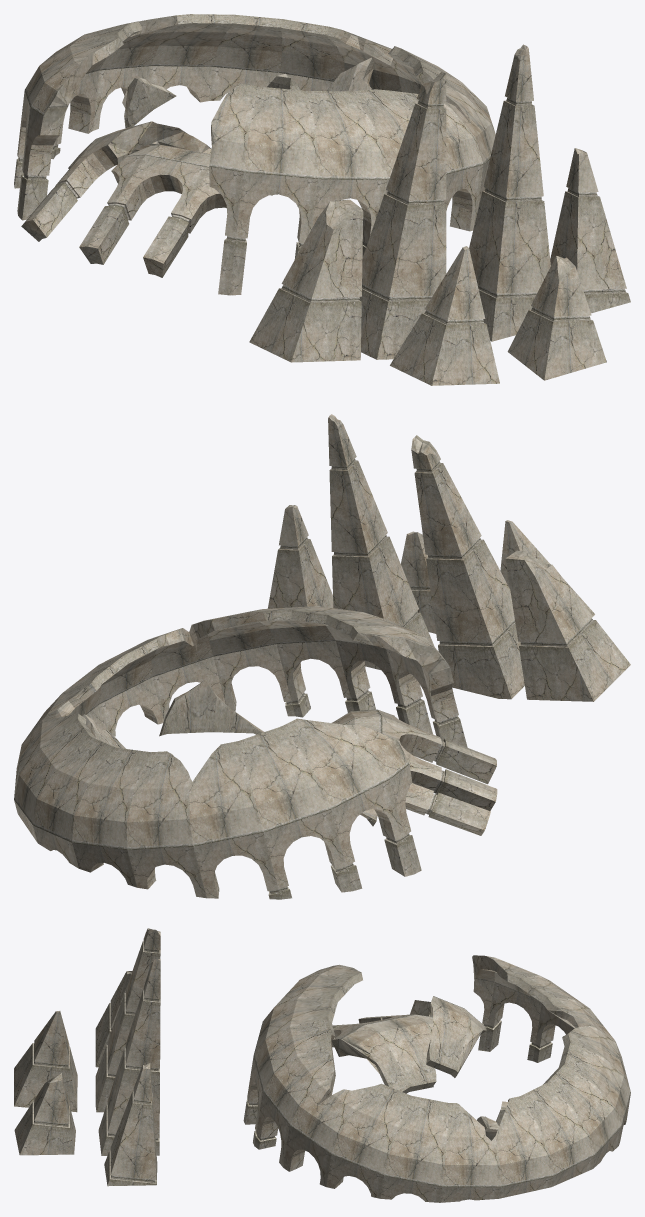
The model's file is poi_temple_ancient_ruined_l0.fbx.
3 renders of one model, top to bottom at view 1: azimuth 30°, elevation 25°; view 2: azimuth 150°, elevation 25°; view 3: azimuth 270°, elevation 25°, orthographic. The views are drawn at different scales.
Visible parts, largest first — view 1: mesh_node; view 2: mesh_node; view 3: mesh_node.
Part boxes in pixels (x1,y1,x2,y2): mesh_node: [14, 14, 630, 385]; mesh_node: [14, 414, 630, 899]; mesh_node: [14, 928, 630, 1202].
Bounding box in the file's own units: 54.49 × 28.83 × 81.14.
